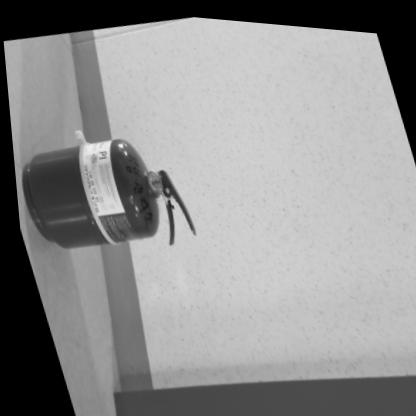FE: (8, 119, 197, 271)
